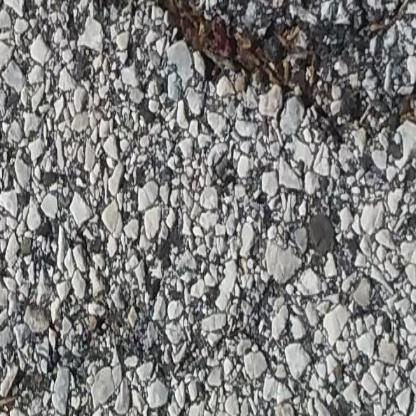Cracks: (86, 0, 334, 126)
